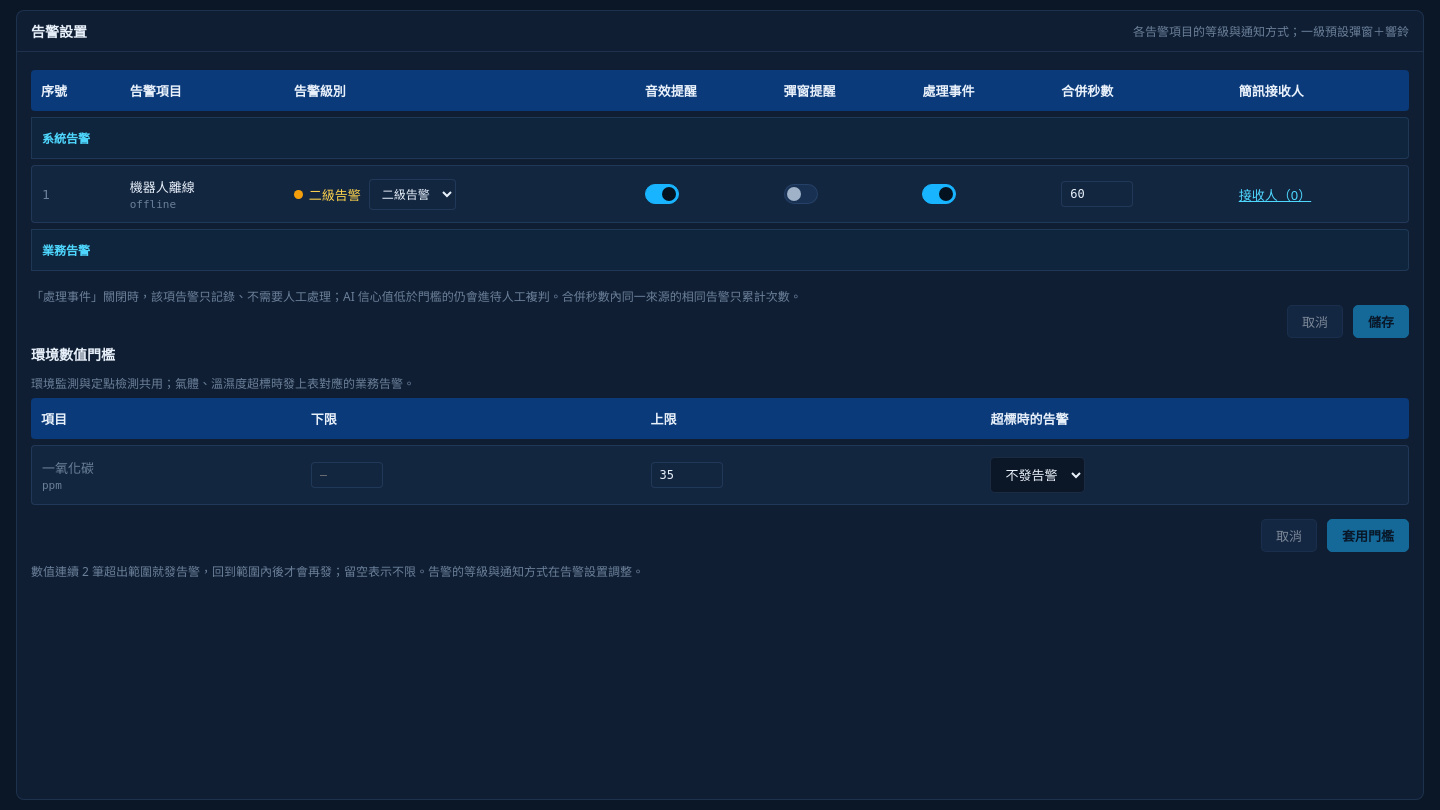
Test: 告警設置 › 簡訊接收人穿梭框
Click the button "接收人（0）" at (1275, 194), box top-left (1239, 184), bottom-right (1311, 204)
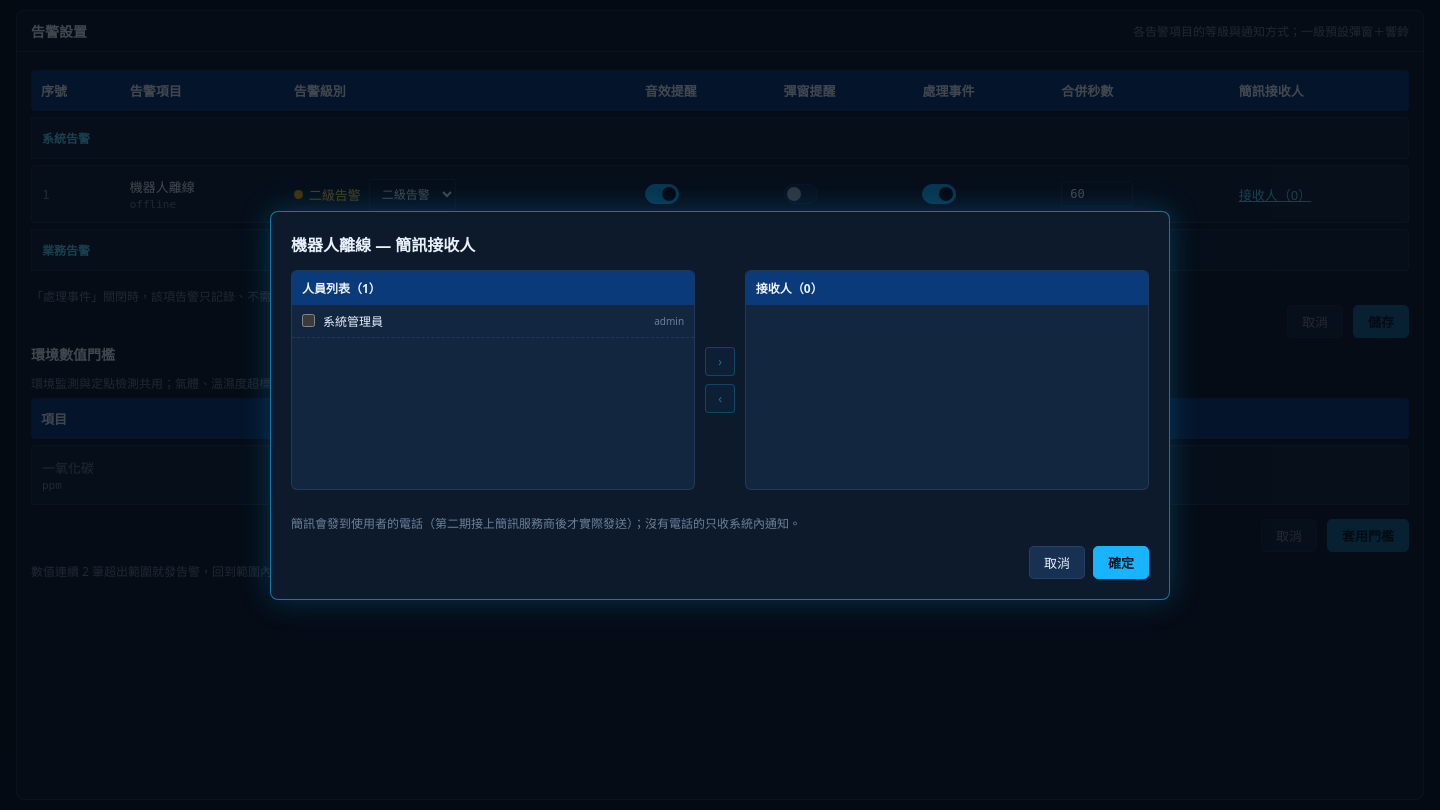
Click the checkbox labelled "系統管理員 admin" at (308, 320), box top-left (302, 314), bottom-right (315, 327)
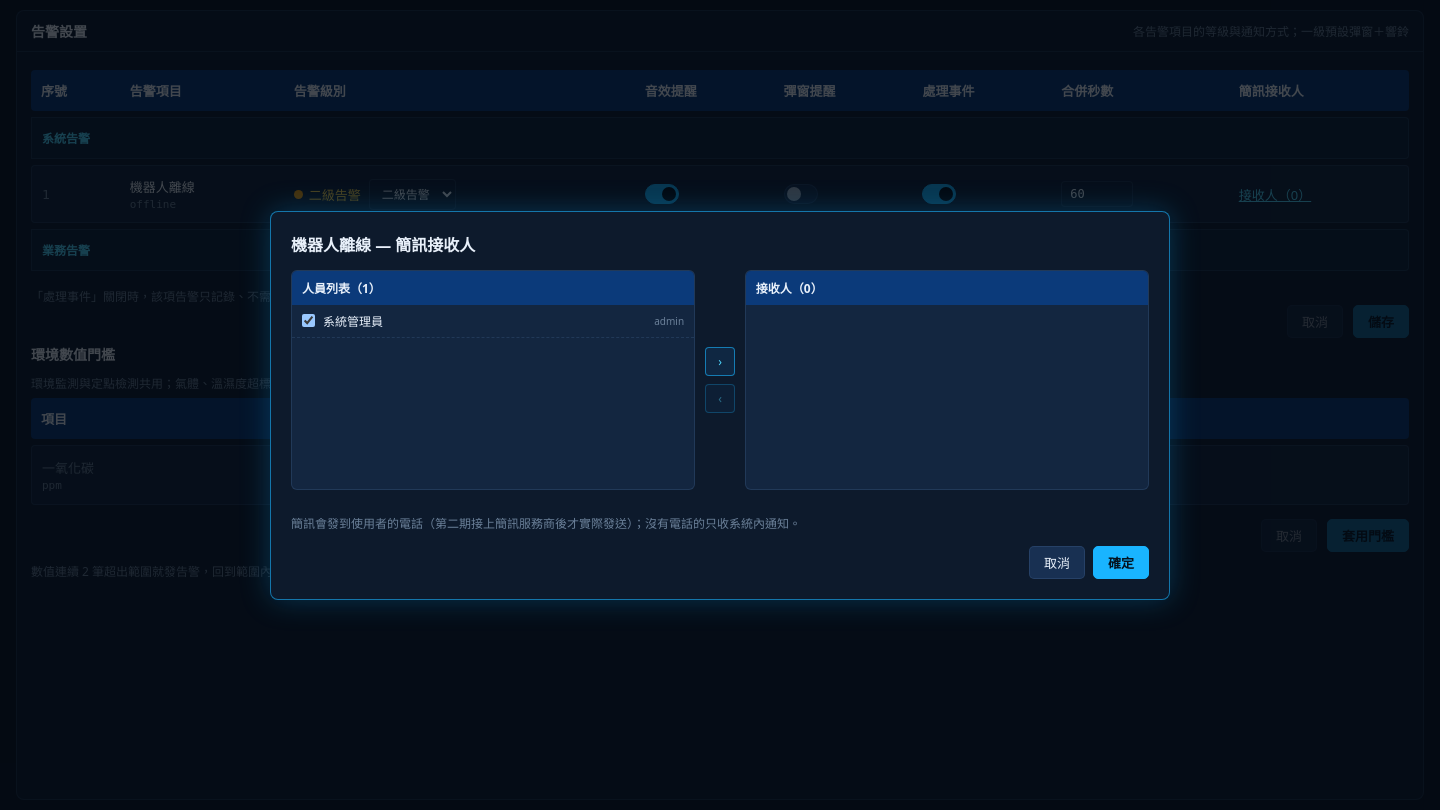
Click the button named "加入接收人" at (720, 361), box top-left (705, 346), bottom-right (735, 376)
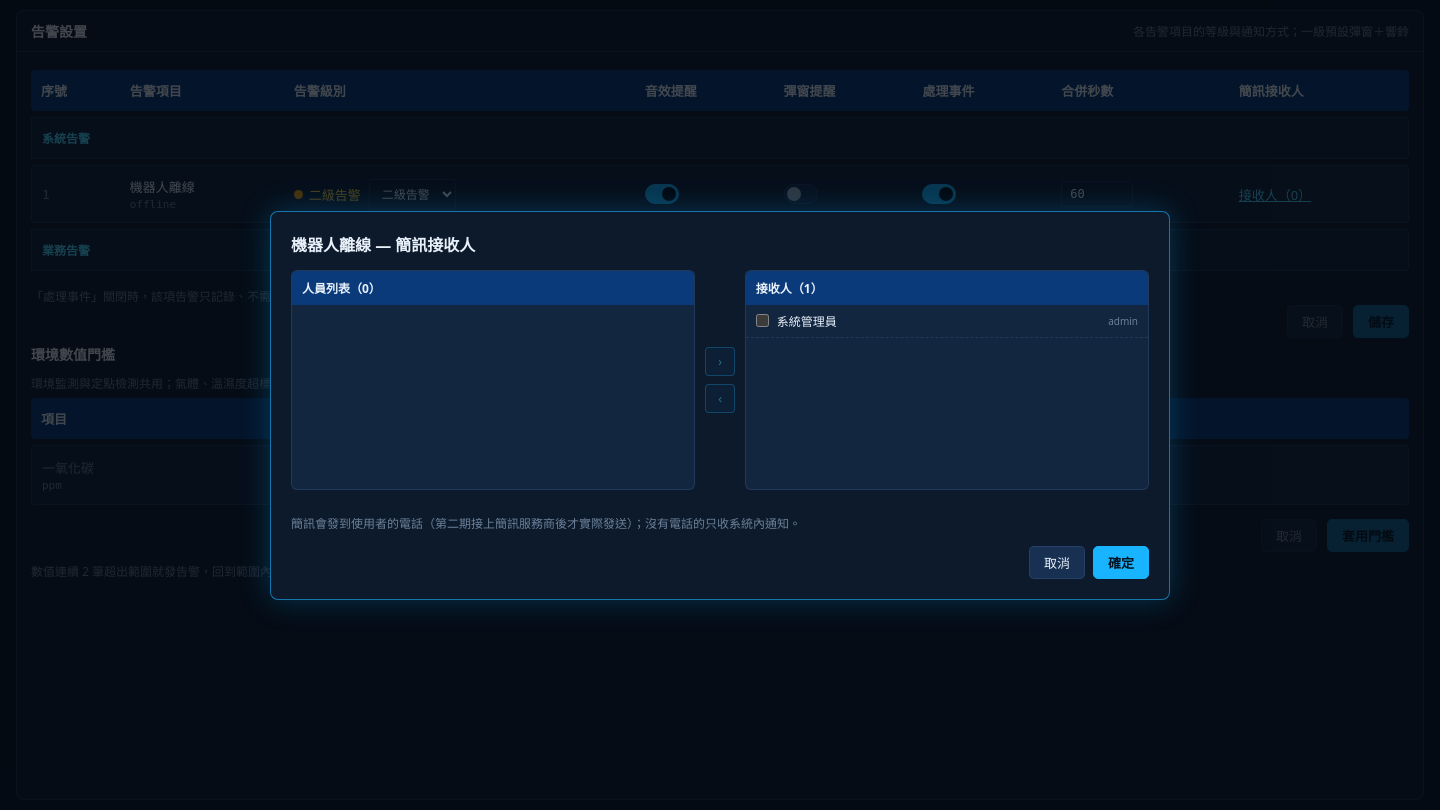
Expected: the heading "接收人（1）" is shown, top-left (746, 270), bottom-right (1148, 304)
Click the button "確定" at (1121, 562), box top-left (1093, 546), bottom-right (1149, 578)
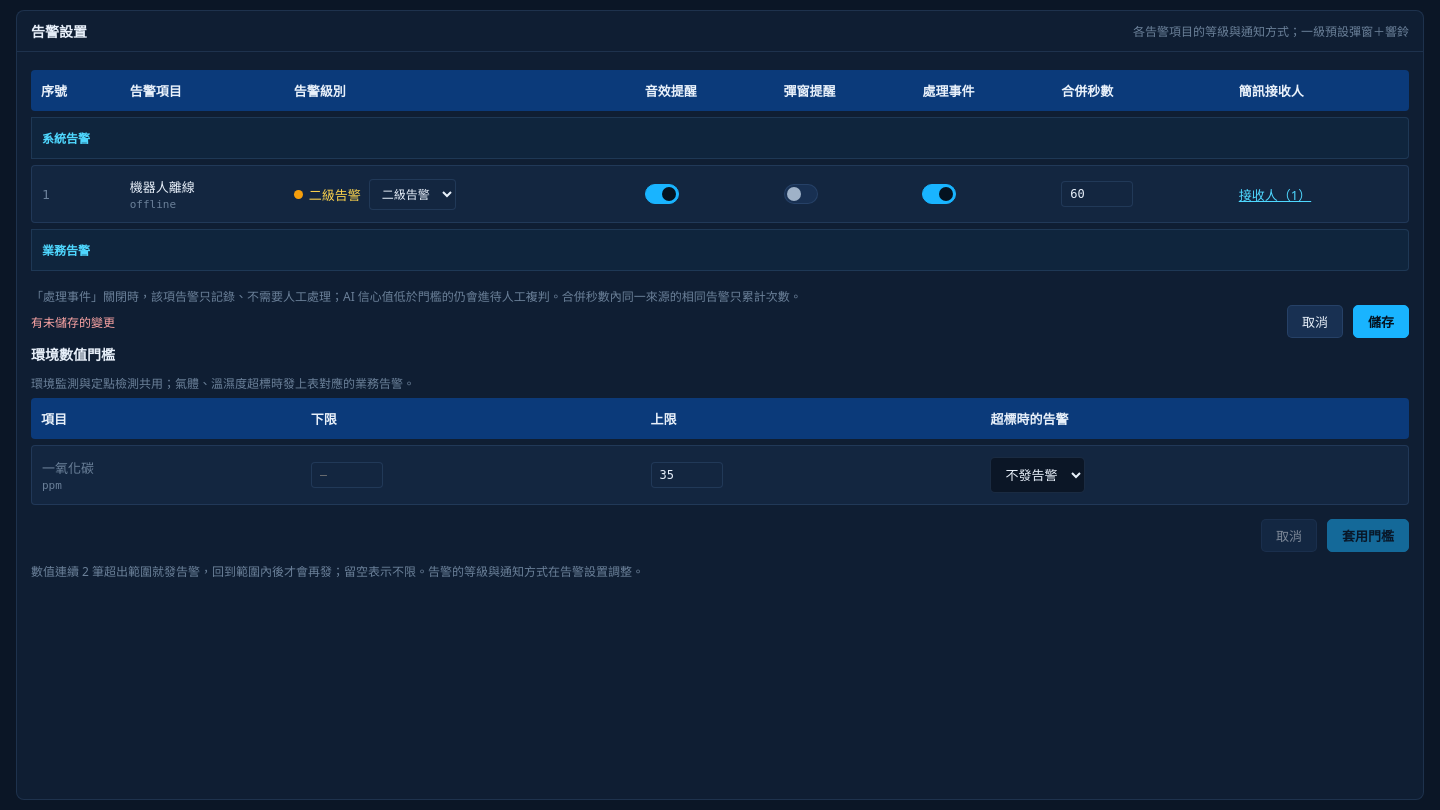
Expected: the button "接收人（1）" is shown, top-left (1239, 184), bottom-right (1311, 204)
